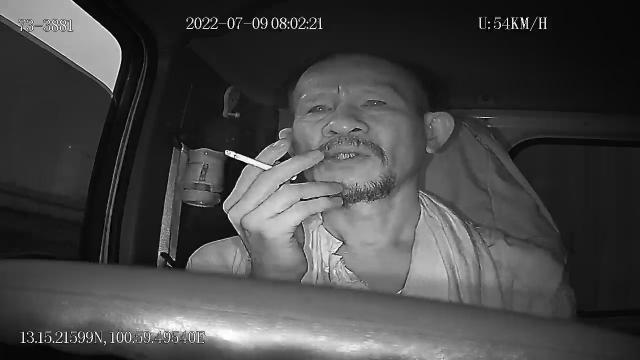SafeDriving: (354, 89, 397, 116), (298, 94, 336, 124)
Smoking: (224, 149, 298, 181)
